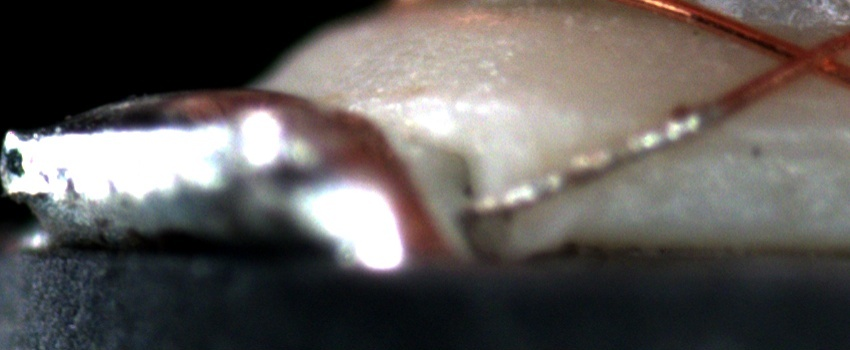CL: (761, 32, 838, 85)
DL: (654, 114, 850, 178)
TS: (471, 103, 717, 216)
